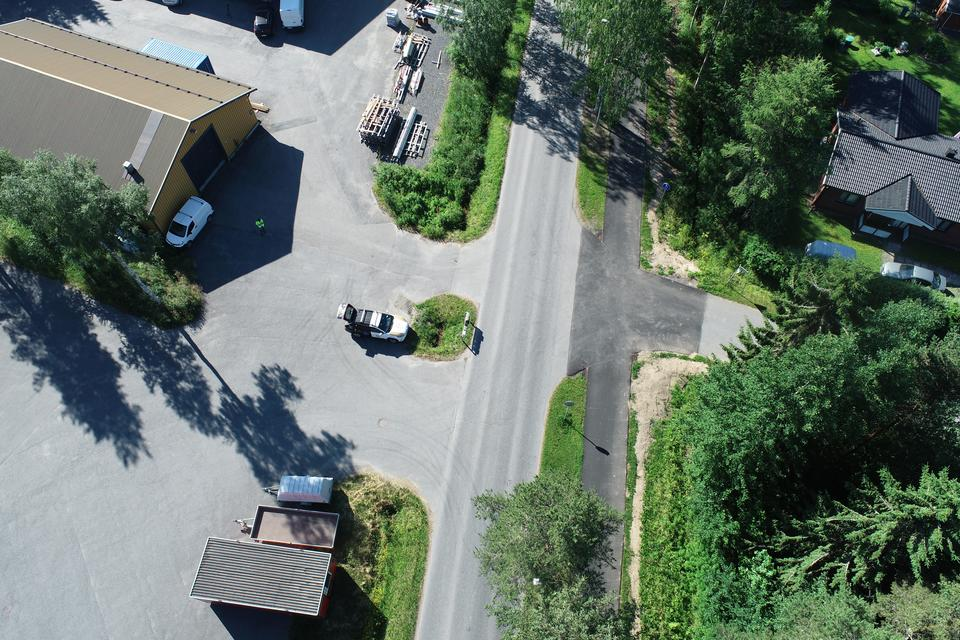intersection: (452, 207, 719, 427)
